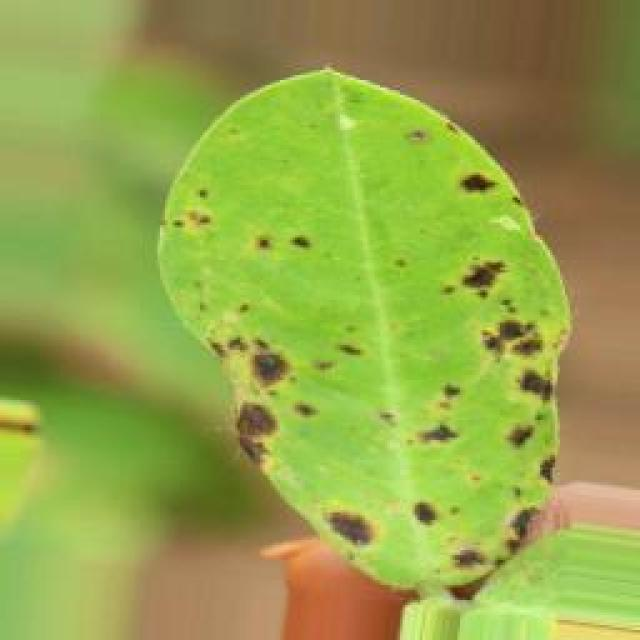Yellowish: (149, 99, 576, 599)
